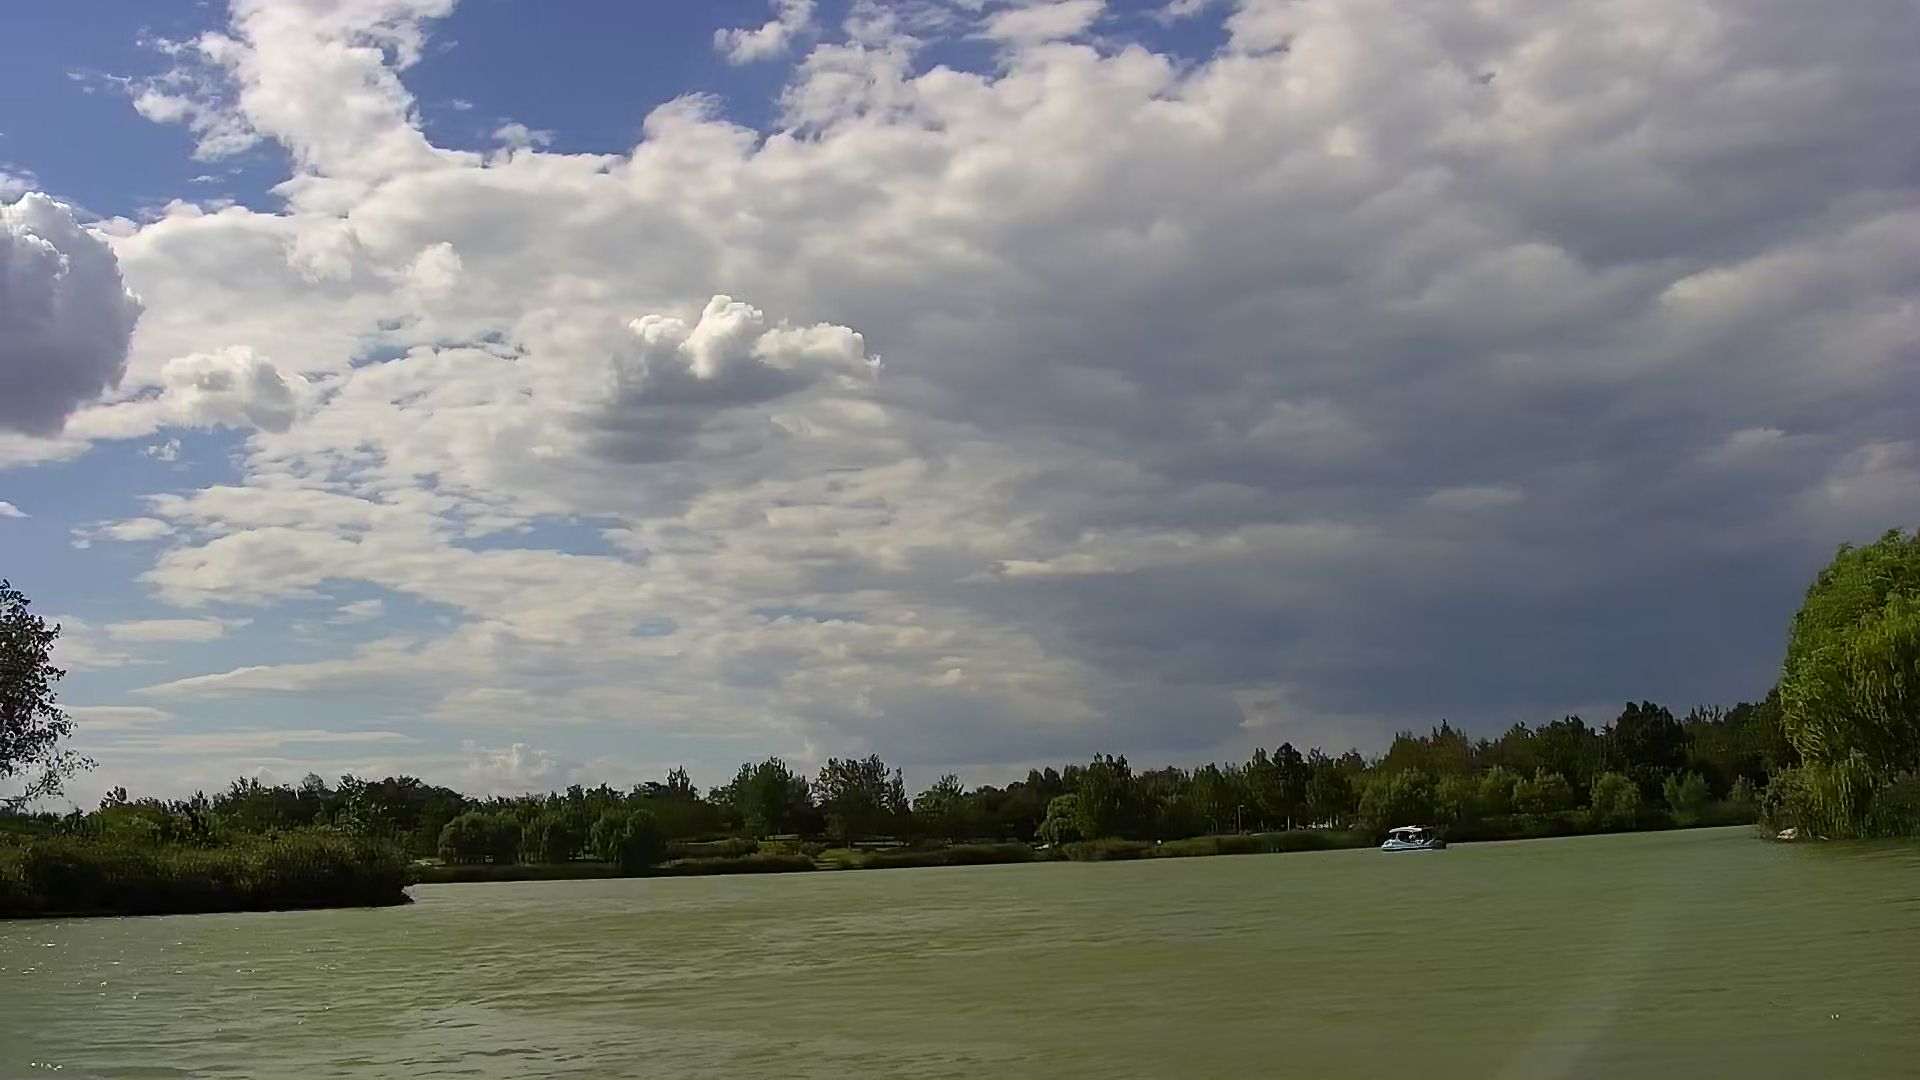boat: (1378, 825, 1448, 855)
rock: (1776, 825, 1803, 843)
